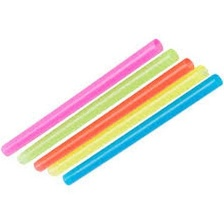drinking_straw: (0, 35, 167, 160)
